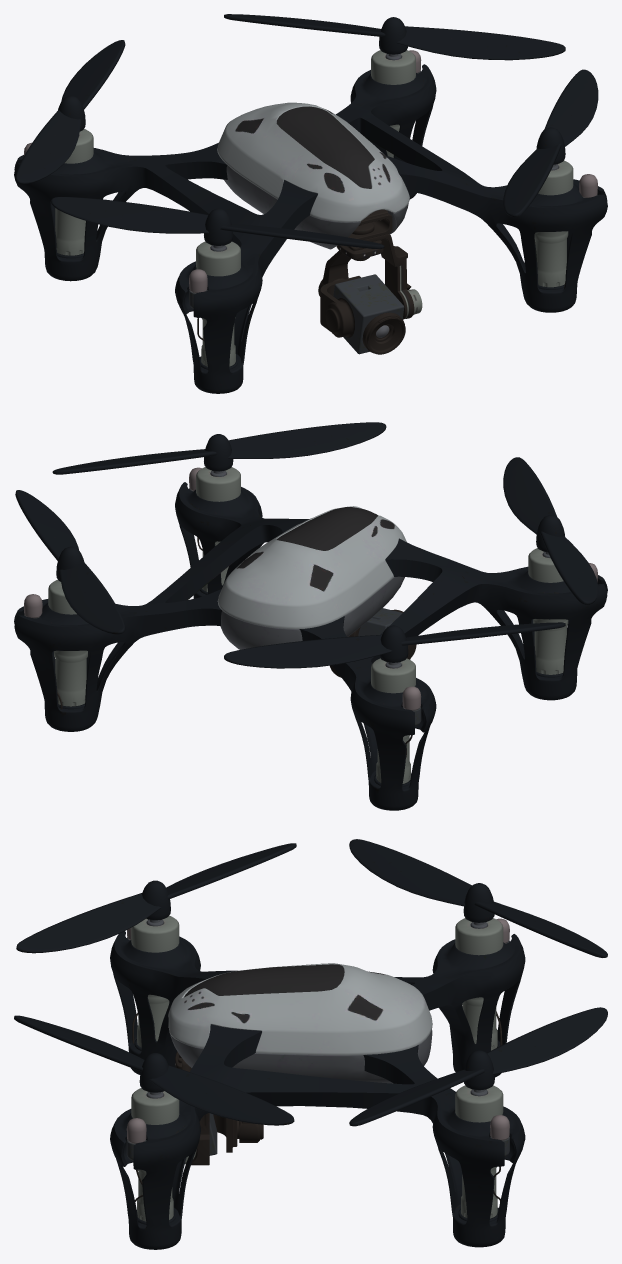
Rendered from Drone.glb.
3 views of the same model, one above another, from view 1: azimuth 30°, elevation 25°; view 2: azimuth 150°, elevation 25°; view 3: azimuth 270°, elevation 25° (orthographic). The views are drawn at different scales.
Visible parts, largest first — view 1: mesh_id44; view 2: mesh_id44; view 3: mesh_id44.
Part boxes in pixels (x1=…): mesh_id44: x1=14, y1=14, x2=607, y2=393; mesh_id44: x1=14, y1=422, x2=607, y2=810; mesh_id44: x1=14, y1=839, x2=607, y2=1249.
Bounding box in the file's own units: 0.512 × 0.1608 × 0.4518.
1 material, 1 textured.
